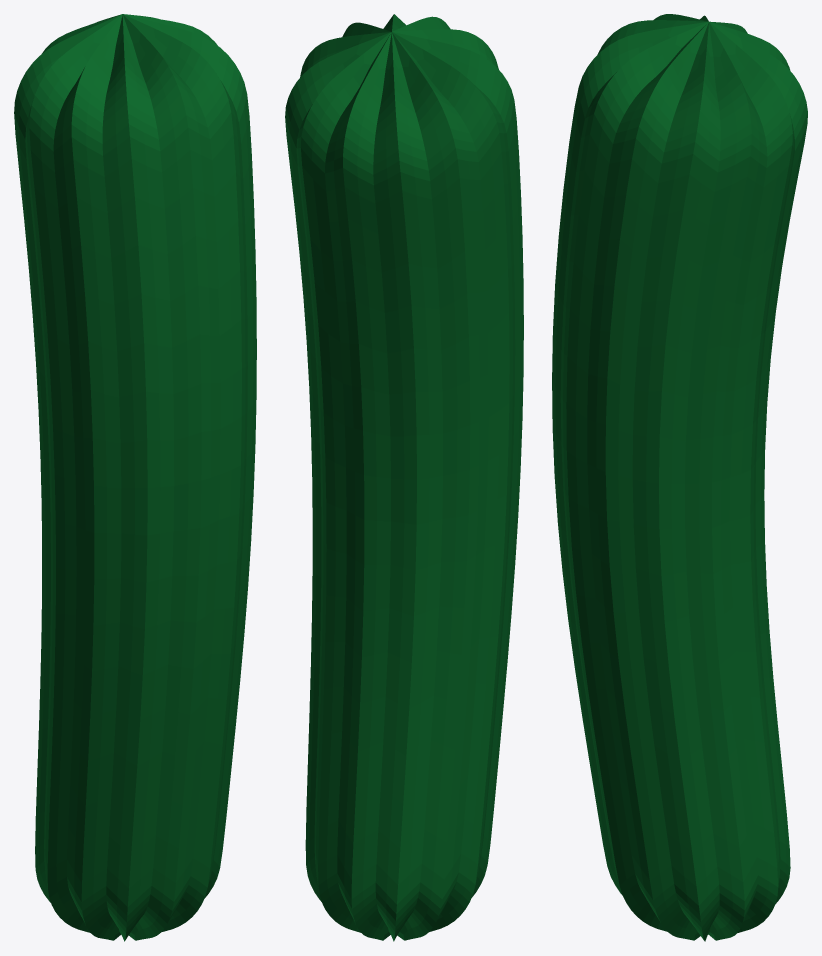
File: cactus1basico.fbx
The picture shows the model from 3 angles, left to right: view 1: azimuth 30°, elevation 25°; view 2: azimuth 150°, elevation 25°; view 3: azimuth 270°, elevation 25°; orthographic projection.
Visible parts, largest first — view 1: cactus 2; view 2: cactus 2; view 3: cactus 2.
Boxes of the visible parts, <box> form: cactus 2: <box>14,14,256,941</box>; cactus 2: <box>285,14,523,941</box>; cactus 2: <box>552,14,807,941</box>.
Bounding box in the file's own units: 93.83 × 404 × 103.
